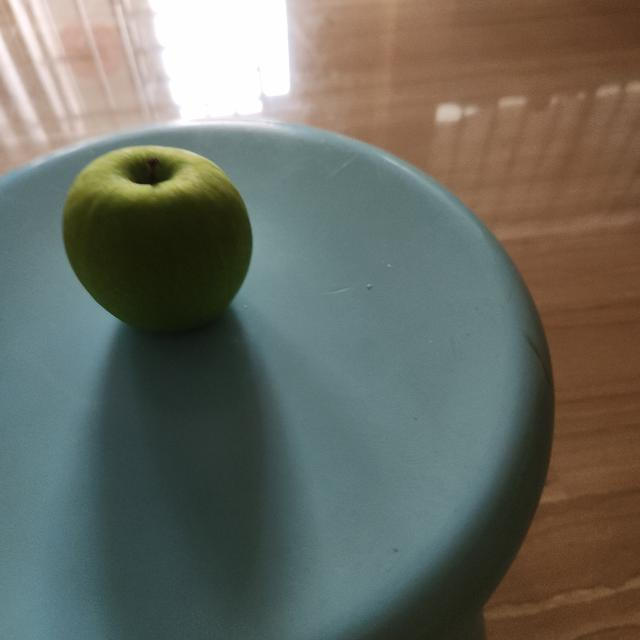apple: (49, 141, 259, 353)
